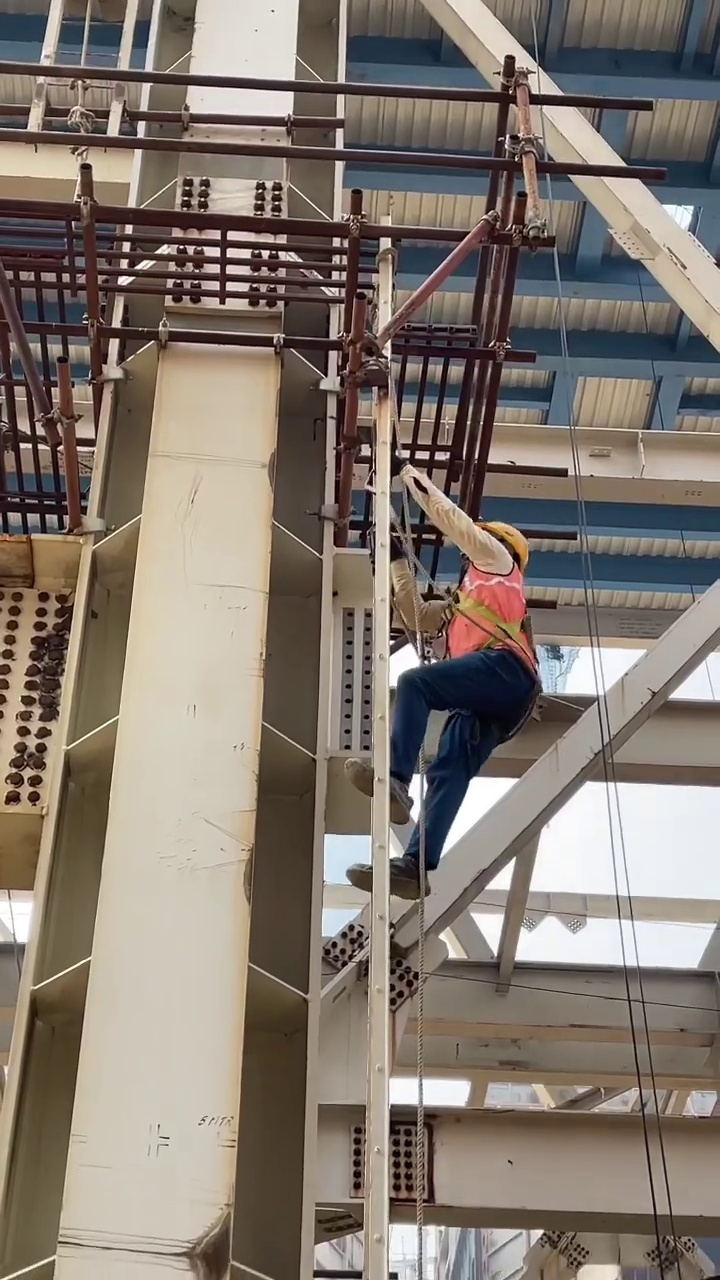Helmet: (475, 520, 529, 564)
Person: (343, 520, 541, 897)
Safety_Harness: (441, 568, 541, 697)
Safety_shoes: (341, 757, 415, 826), (349, 853, 432, 898)
